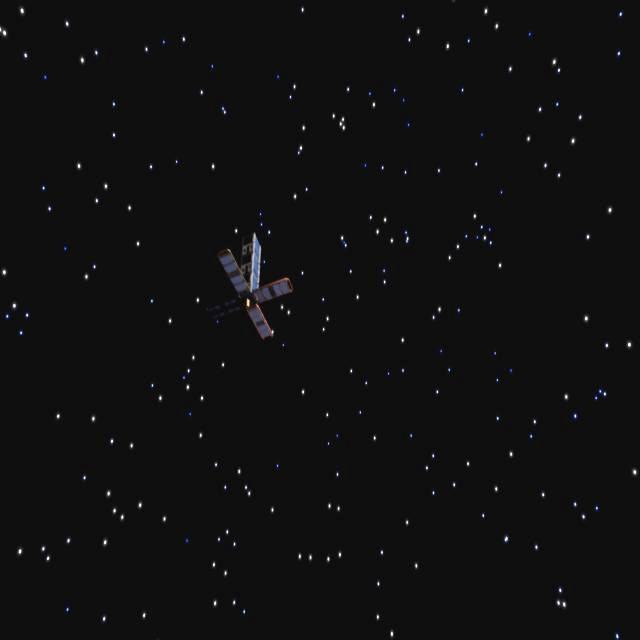satellite: (215, 227, 305, 346)
